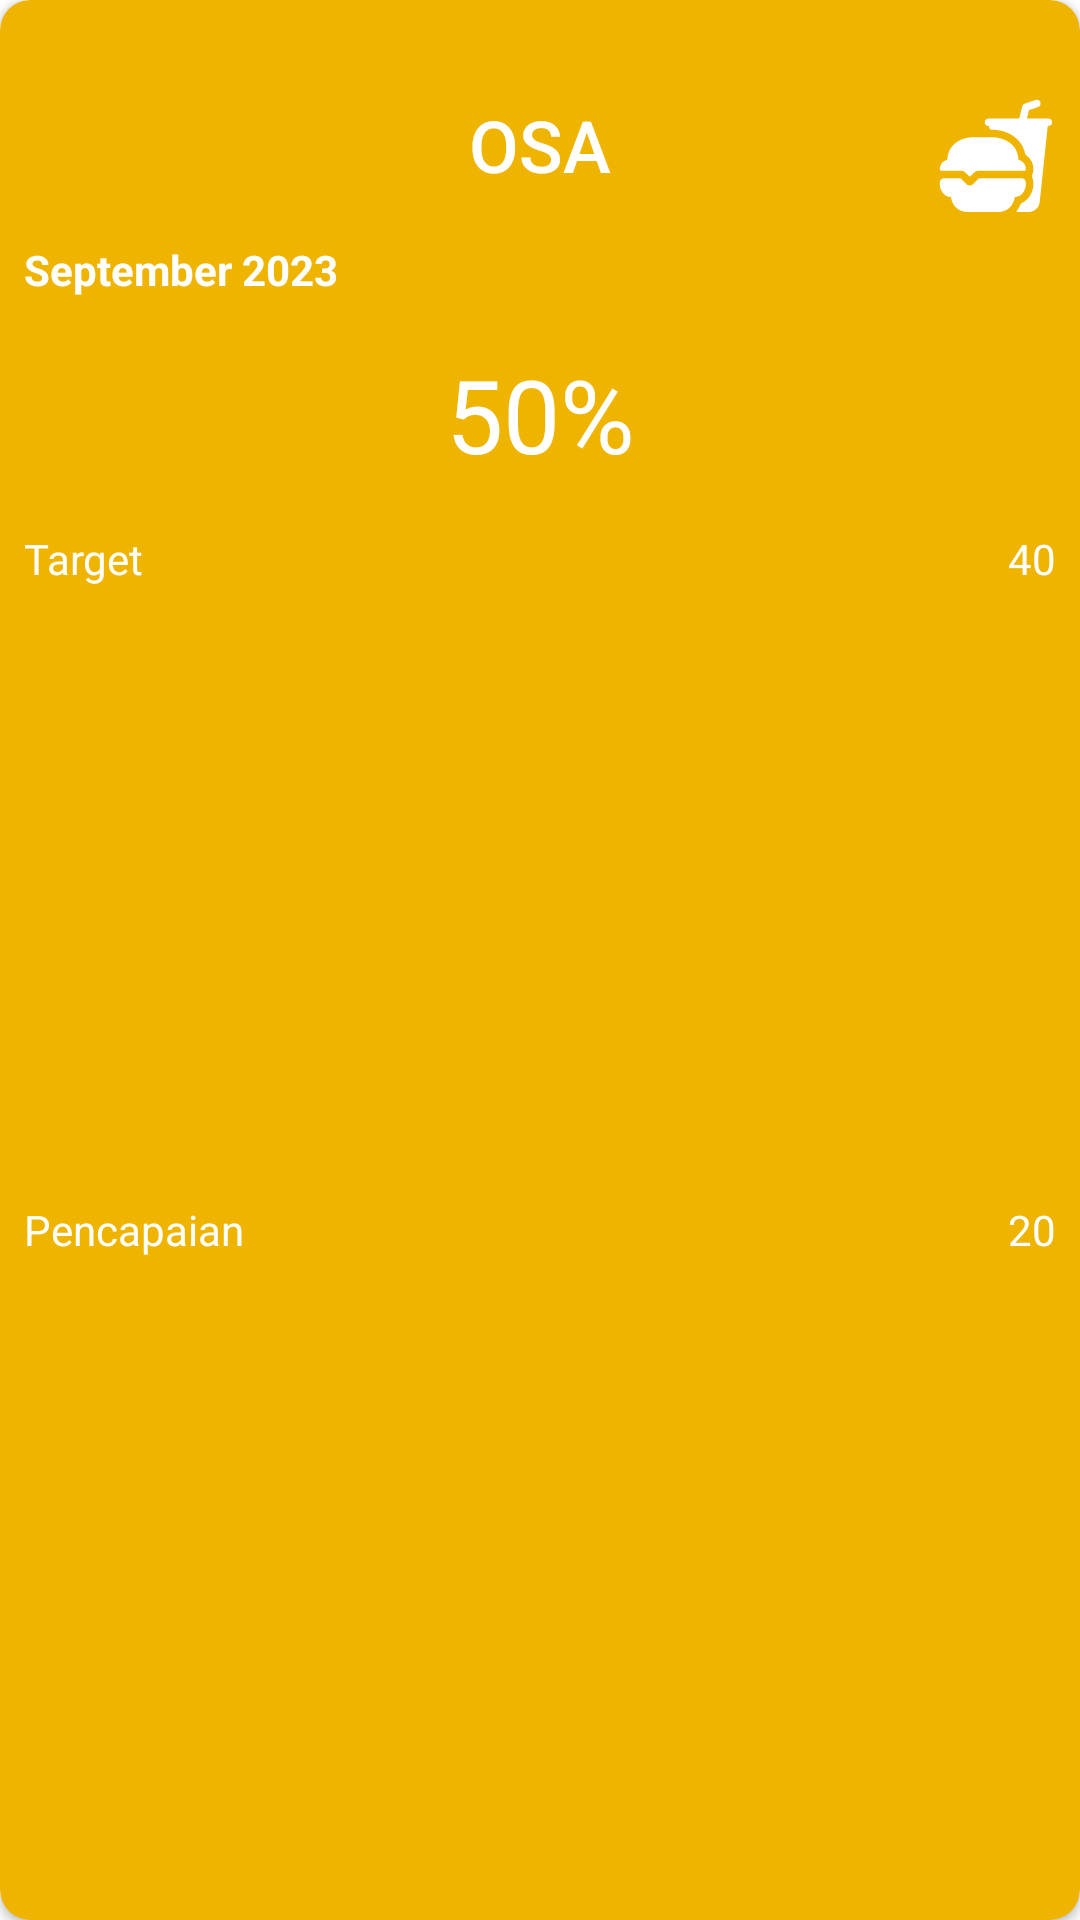

Screen size 1080 × 1920. Icon name, then its center in pixels as [x,y]:
food: [995,155]
